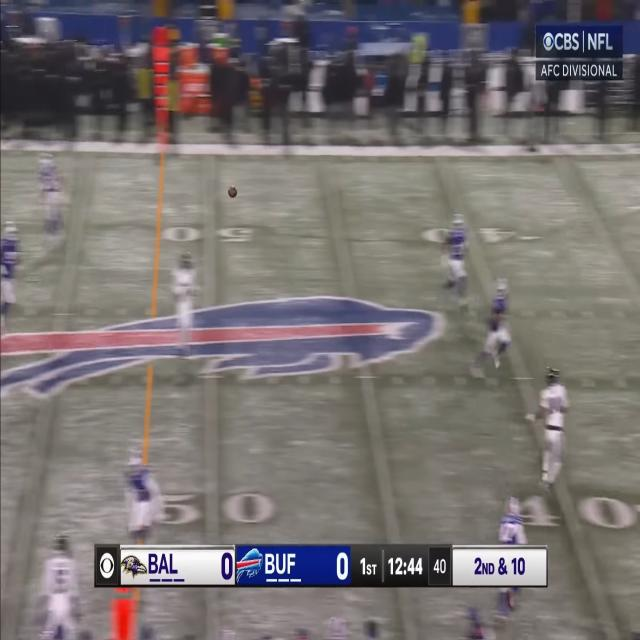Ball: (227, 186, 238, 200)
